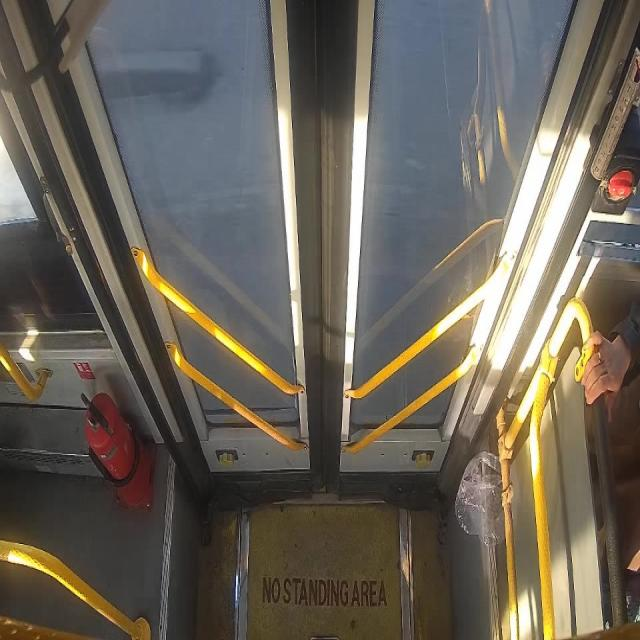close: (74, 2, 576, 488)
